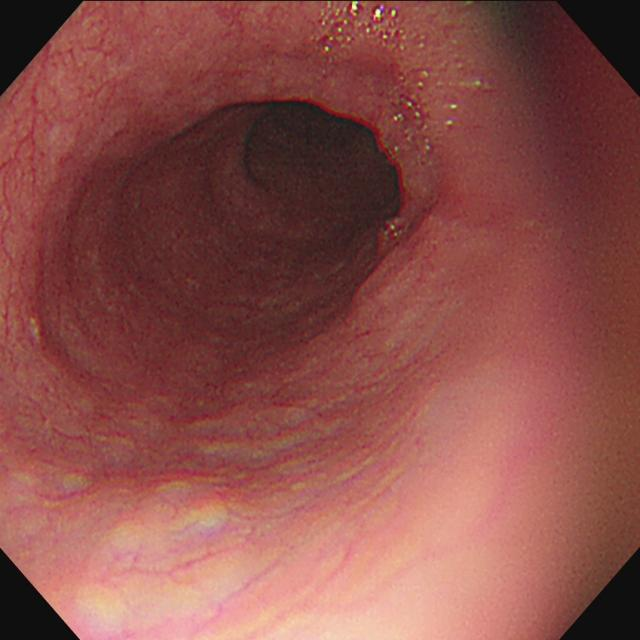E: (250, 83, 410, 219)
U: (373, 5, 401, 24), (350, 2, 361, 17)
